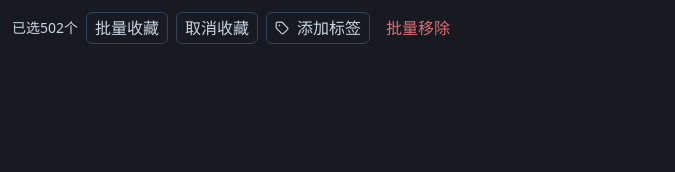
keeps later chunks running when one chunk fails at the envelope level
Click the button "批量收藏": click(127, 28) [86, 12, 168, 44]
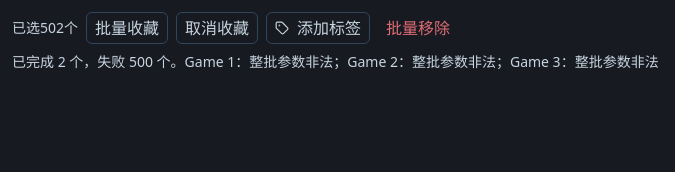
expect the text "已完成 2 个，失败 500 个。Game 1：整批参数非法；Game 2：整批参数非法；Game 3：整批参数非法" is shown: met, box [12, 52, 659, 71]
